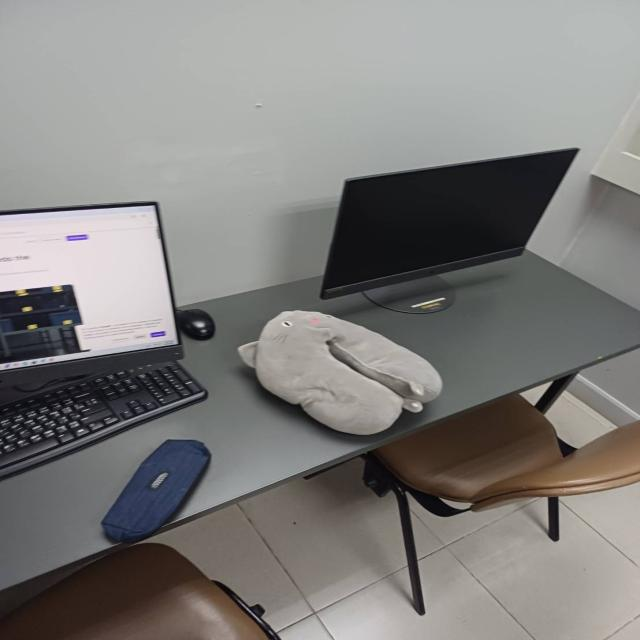pillow: (234, 305, 445, 441)
